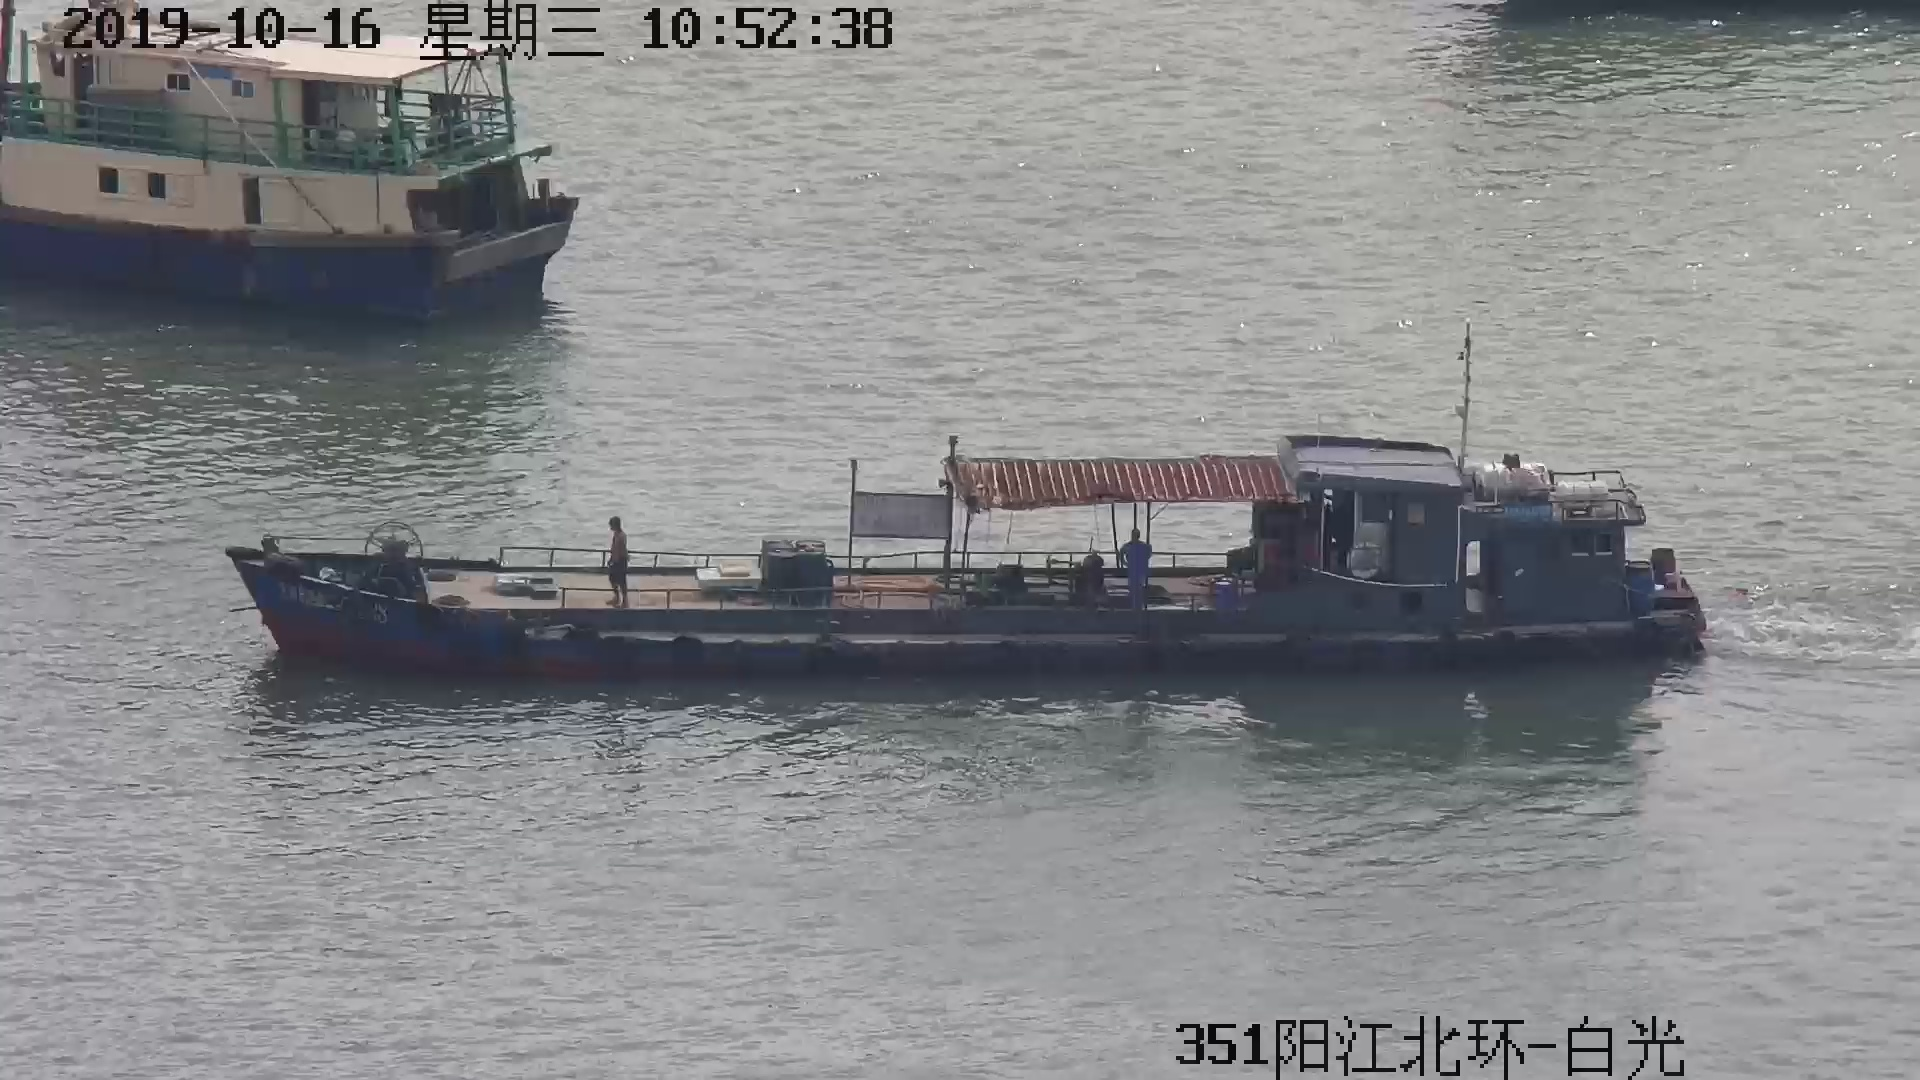ship: (225, 327, 1695, 687), (1, 1, 568, 302)
